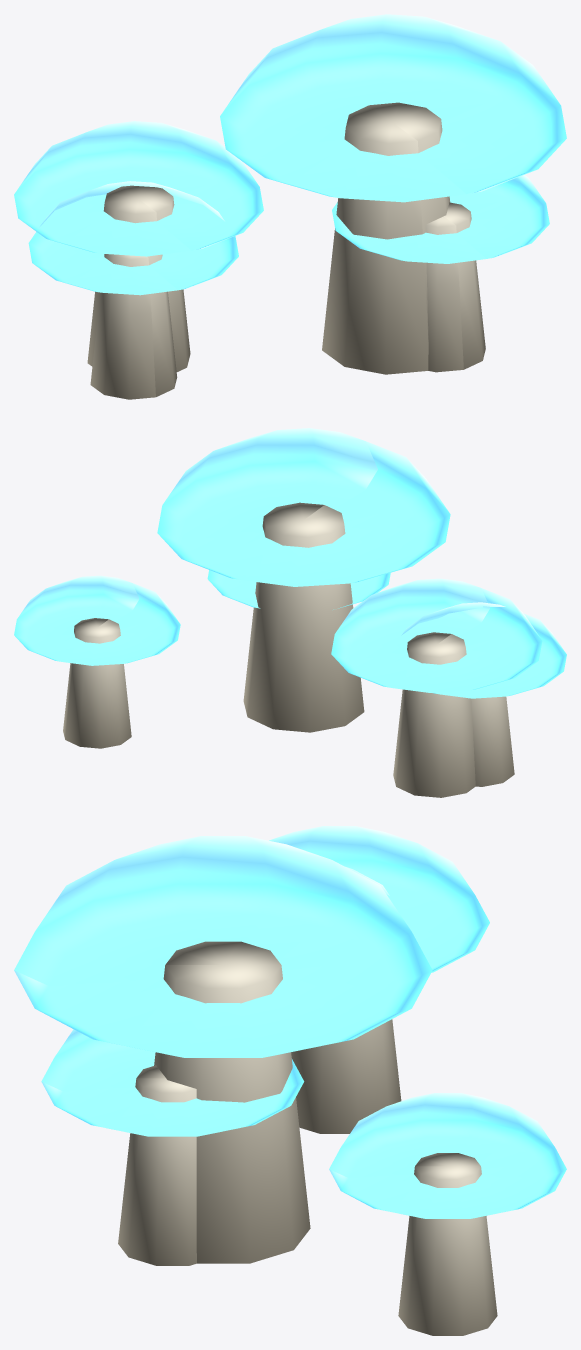
File: plant_mushroom_glowing.glb
The picture shows the model from 3 angles, top to bottom: view 1: azimuth 30°, elevation 25°; view 2: azimuth 150°, elevation 25°; view 3: azimuth 270°, elevation 25°; orthographic projection. The views are drawn at different scales.
Parts seen in each view (by area): view 1: mushroom_glow, mushroom_glow_mushroom_stem; view 2: mushroom_glow, mushroom_glow_mushroom_stem; view 3: mushroom_glow, mushroom_glow_mushroom_stem.
Boxes of the visible parts, x1,y1,x2,y2 form: mushroom_glow: (14,14,566,295); mushroom_glow_mushroom_stem: (87,102,485,399); mushroom_glow: (14,428,566,698); mushroom_glow_mushroom_stem: (63,502,514,797); mushroom_glow: (14,826,566,1218); mushroom_glow_mushroom_stem: (118,941,497,1335).
Size of the model in its own units: 0.4752 by 0.2484 by 0.3424.
